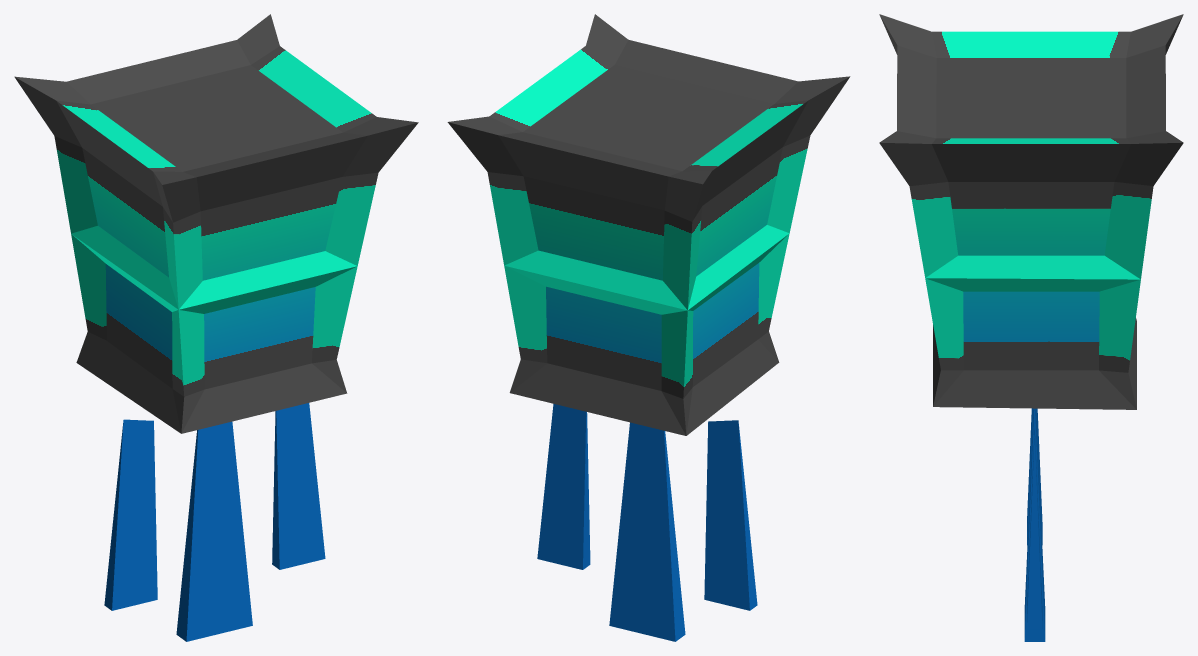
File: LanternCube_large.fbx
3 renders of one model, left to right at view 1: azimuth 30°, elevation 25°; view 2: azimuth 150°, elevation 25°; view 3: azimuth 270°, elevation 25°, orthographic. The views are drawn at different scales.
Visible parts, largest first — view 1: XPLantern_big; view 2: XPLantern_big; view 3: XPLantern_big.
Part boxes in pixels (left/top/right/bottom): XPLantern_big: left=14, top=14, right=418, bottom=641; XPLantern_big: left=447, top=14, right=850, bottom=641; XPLantern_big: left=879, top=14, right=1183, bottom=641.
Bounding box in the file's own units: 68.21 × 135 × 68.21.
